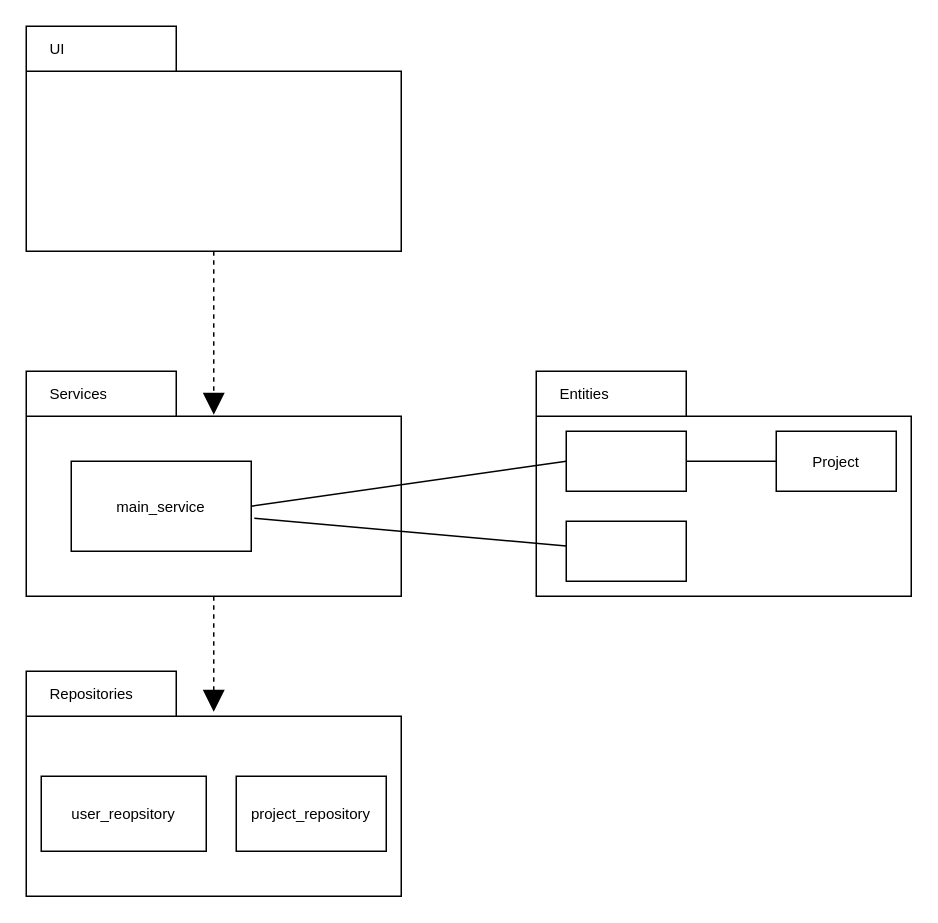
Some shapes in this 938 by 923 pixel diagram are drawn without their labels. The shapes that lost their labels are listed below. From the top down, each one's centre as x and y in pixels, then its label:
the point at 625,460: User
the point at 625,550: Timer
